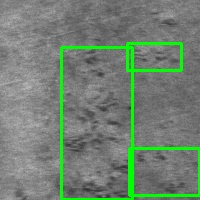rolled-in_scale: (61, 47, 132, 199), (129, 148, 199, 195), (127, 43, 181, 70)
